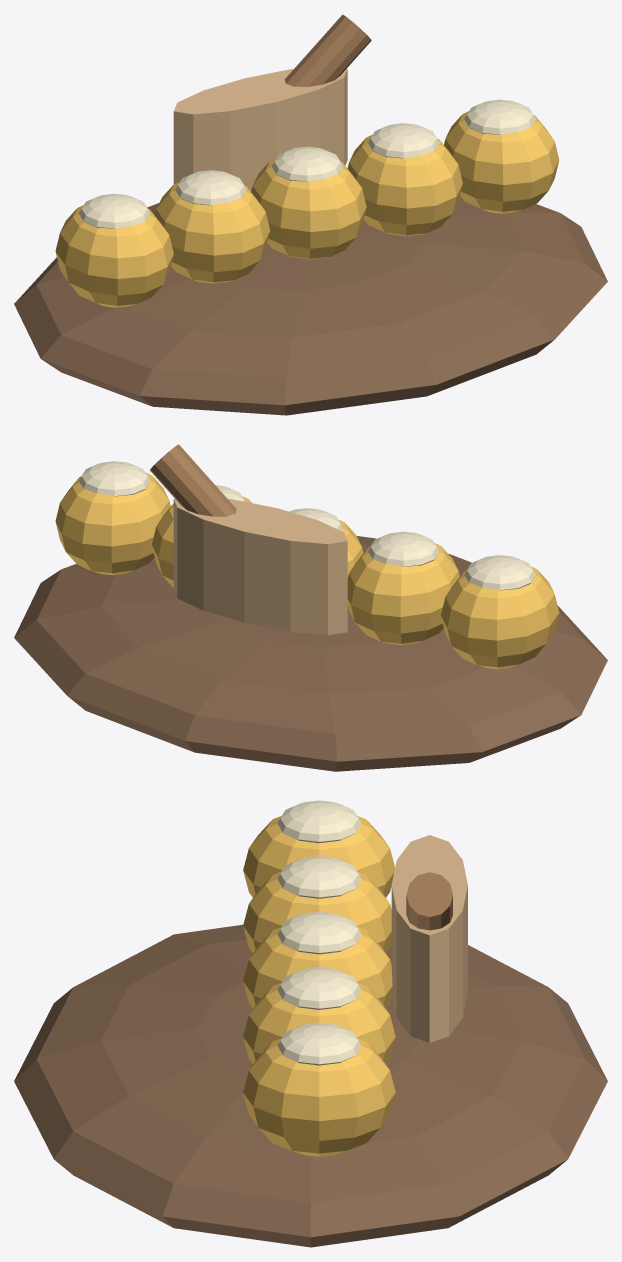
File: SeedMill3.fbx
3 renders of one model, top to bottom at view 1: azimuth 30°, elevation 25°; view 2: azimuth 150°, elevation 25°; view 3: azimuth 270°, elevation 25°, orthographic. The views are drawn at different scales.
Parts seen in each view (by area): view 1: Worksite soil bed.007, Small sorting wheel.002, Golden seed bin.007, Golden seed bin.011, Golden seed bin.008, Golden seed bin.010, Golden seed bin.009, Wheel handle.002, Seed cap.008, Seed cap.011, Seed cap.007, Seed cap.010 (+1 smaller); view 2: Worksite soil bed.007, Small sorting wheel.002, Golden seed bin.007, Golden seed bin.011, Golden seed bin.008, Wheel handle.002, Seed cap.011, Seed cap.007, Seed cap.008, Golden seed bin.010, Golden seed bin.009, Seed cap.009; view 3: Worksite soil bed.007, Golden seed bin.011, Small sorting wheel.002, Golden seed bin.010, Golden seed bin.007, Golden seed bin.009, Golden seed bin.008, Seed cap.008, Seed cap.010, Seed cap.009, Seed cap.011, Seed cap.007 (+1 smaller).
Boxes of the visible parts, x1,y1,x2,y2 form: Worksite soil bed.007: (14, 196, 607, 415); Small sorting wheel.002: (173, 69, 347, 191); Golden seed bin.007: (55, 205, 173, 307); Golden seed bin.011: (444, 111, 559, 213); Golden seed bin.008: (155, 182, 270, 283); Golden seed bin.010: (347, 135, 462, 236); Golden seed bin.009: (251, 158, 366, 259); Wheel handle.002: (284, 14, 371, 86); Seed cap.008: (175, 170, 246, 205); Seed cap.011: (464, 99, 535, 134); Seed cap.007: (79, 193, 150, 228); Seed cap.010: (368, 123, 439, 158); Worksite soil bed.007: (14, 536, 607, 771); Small sorting wheel.002: (173, 498, 347, 635); Golden seed bin.007: (441, 567, 559, 669); Golden seed bin.011: (55, 473, 170, 575); Golden seed bin.008: (347, 543, 459, 644); Wheel handle.002: (150, 444, 236, 516); Seed cap.011: (79, 461, 150, 496); Seed cap.007: (464, 555, 535, 590); Seed cap.008: (368, 531, 439, 566); Golden seed bin.010: (152, 496, 251, 587); Golden seed bin.009: (339, 520, 363, 577); Seed cap.009: (289, 508, 342, 530); Worksite soil bed.007: (14, 924, 607, 1247); Golden seed bin.011: (243, 1038, 395, 1156); Small sorting wheel.002: (391, 835, 467, 1042); Golden seed bin.010: (243, 982, 395, 1064); Golden seed bin.007: (243, 816, 394, 897); Golden seed bin.009: (243, 927, 392, 1008); Golden seed bin.008: (243, 871, 391, 952); Seed cap.008: (277, 856, 361, 898); Seed cap.010: (277, 967, 361, 1009); Seed cap.009: (277, 911, 361, 954); Seed cap.011: (277, 1023, 361, 1065); Seed cap.007: (277, 800, 361, 843).
Bounding box in the file's own units: 174 × 82.21 × 140.
